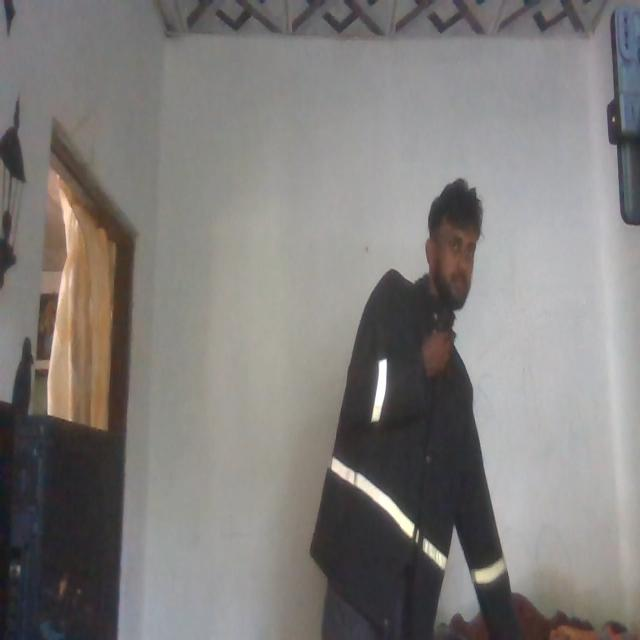Jacket_Wearer: (320, 267, 510, 621)
Person: (312, 154, 508, 640)
